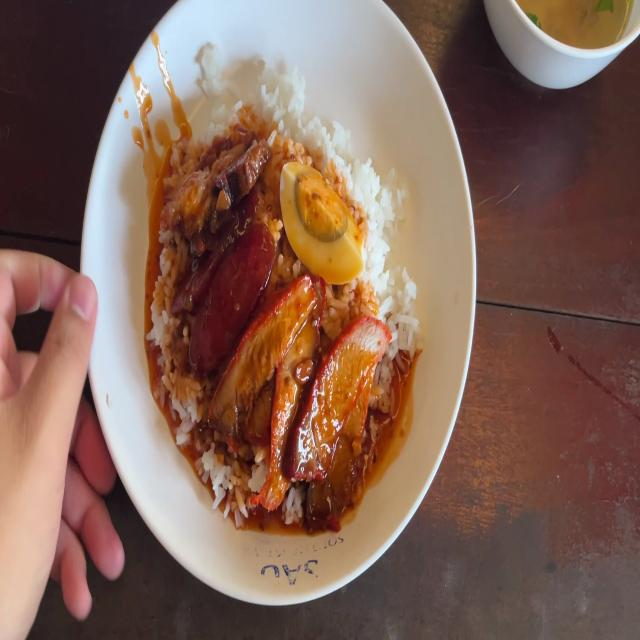01boiled_egg: (280, 166, 363, 280)
01chainese_sausage: (187, 207, 271, 354)
01crispy_pork: (176, 141, 263, 232)
01red_pork: (240, 321, 384, 484)
01red_pork_and_crispy_pork: (168, 84, 406, 503)
01rice: (246, 73, 329, 156), (367, 230, 416, 322)
